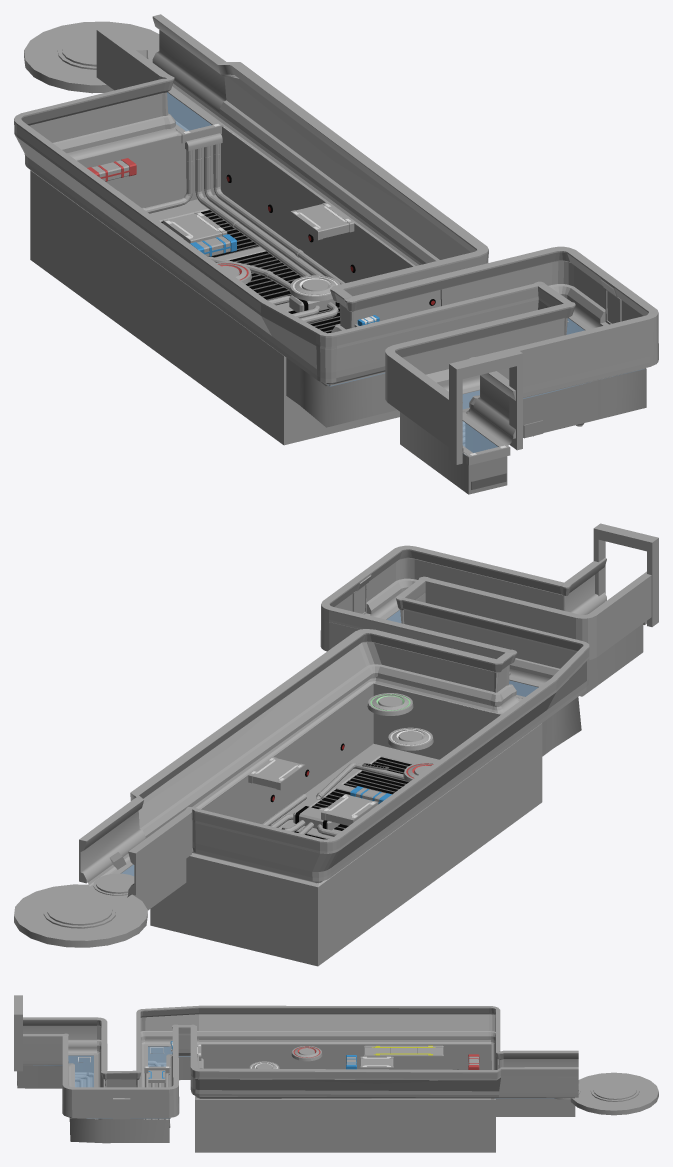
File: Blue_Room.fbx
3 renders of one model, top to bottom at view 1: azimuth 30°, elevation 25°; view 2: azimuth 150°, elevation 25°; view 3: azimuth 270°, elevation 25°, orthographic. The views are drawn at different scales.
Visible parts, largest first — view 1: pCube8, pCube195, pCube193, pCube70, polySurface28, pTorus63, polySurface40, pCube343, pCube46, pCube37, polySurface38, pCube208 (+4 smaller); view 2: pCube8, pCube195, pCube193, polySurface40, polySurface28, pCube70, pCube343, polySurface38, pCube37, pCube84, pCube208, pCylinder14 (+4 smaller); view 3: pCube8, pCube195, pCube193, pCube70, polySurface28, polySurface40, pCube46, pCube84, pCube207, polySurface38, pCube343, pTorus44 (+2 smaller).
Part boxes in pixels (x1=…): pCube8: x1=30, y1=126, x2=413, y2=445; pCube195: x1=152, y1=14, x2=658, y2=438; pCube193: x1=14, y1=28, x2=575, y2=447; pCube70: x1=286, y1=318, x2=646, y2=494; polySurface28: x1=67, y1=80, x2=642, y2=455; pTorus63: x1=145, y1=154, x2=344, y2=290; polySurface40: x1=24, y1=21, x2=159, y2=93; pCube343: x1=449, y1=348, x2=522, y2=464; pCube46: x1=327, y1=314, x2=645, y2=455; pCube37: x1=290, y1=202, x2=354, y2=240; polySurface38: x1=57, y1=34, x2=138, y2=69; pCube208: x1=162, y1=211, x2=227, y2=243; pCube8: x1=150, y1=683, x2=542, y2=966; pCube195: x1=79, y1=545, x2=606, y2=883; pCube193: x1=128, y1=571, x2=651, y2=895; polySurface40: x1=14, y1=884, x2=147, y2=947; polySurface28: x1=88, y1=592, x2=549, y2=897; pCube70: x1=387, y1=610, x2=643, y2=756; pCube343: x1=593, y1=523, x2=658, y2=626; polySurface38: x1=43, y1=896, x2=115, y2=928; pCube37: x1=248, y1=757, x2=305, y2=790; pCube84: x1=122, y1=859, x2=186, y2=910; pCube208: x1=321, y1=794, x2=378, y2=825; pCylinder14: x1=387, y1=727, x2=433, y2=750; pCube8: x1=195, y1=1044, x2=495, y2=1152; pCube195: x1=23, y1=1024, x2=578, y2=1119; pCube193: x1=23, y1=1005, x2=578, y2=1087; pCube70: x1=17, y1=1047, x2=190, y2=1143; polySurface28: x1=23, y1=1038, x2=579, y2=1118; polySurface40: x1=570, y1=1072, x2=658, y2=1115; pCube46: x1=23, y1=1044, x2=197, y2=1118; pCube84: x1=496, y1=1099, x2=575, y2=1116; pCube207: x1=364, y1=1045, x2=443, y2=1060; polySurface38: x1=590, y1=1080, x2=639, y2=1101; pCube343: x1=14, y1=995, x2=22, y2=1071; pTorus44: x1=75, y1=1061, x2=170, y2=1127.
Size of the model in its own units: 46.18 by 27.38 by 148.
